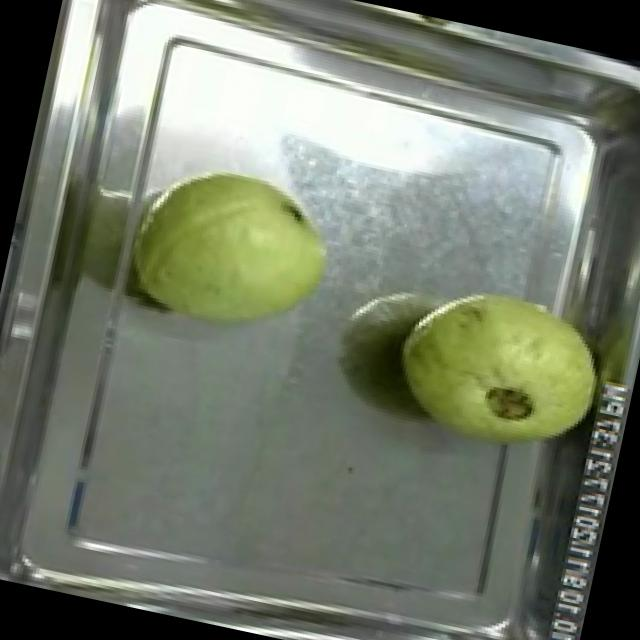Fruit: (375, 264, 620, 478), (111, 143, 352, 358)
